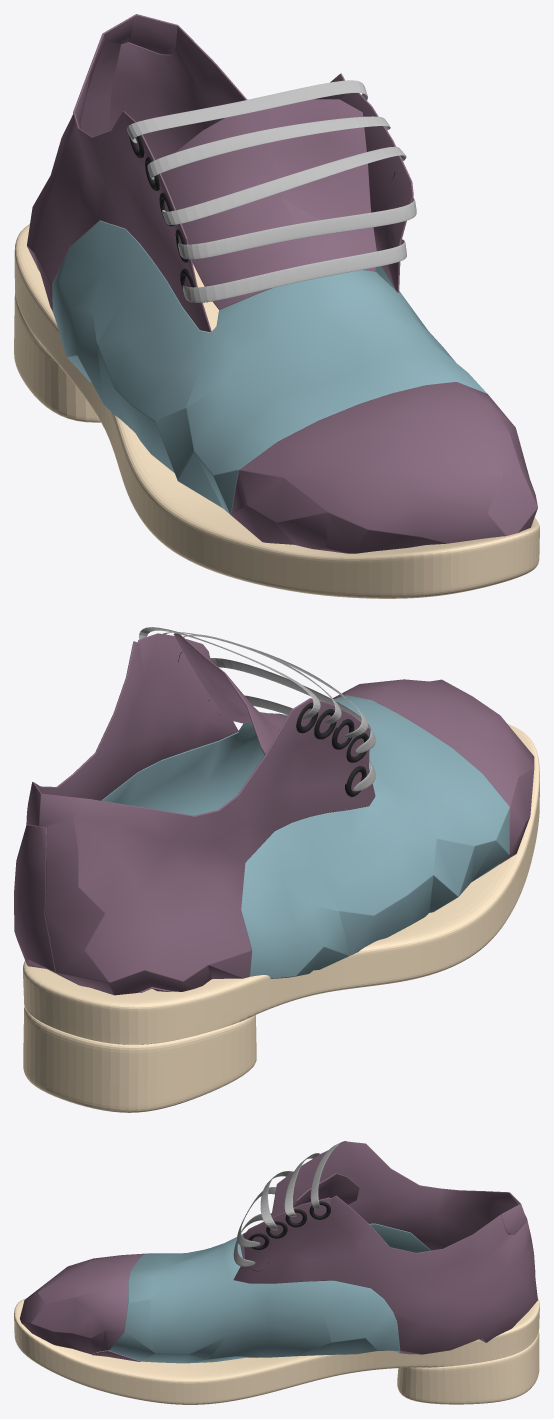
The model's file is za1ve3derecha.fbx.
The picture shows the model from 3 angles, top to bottom: view 1: azimuth 30°, elevation 25°; view 2: azimuth 150°, elevation 25°; view 3: azimuth 270°, elevation 25°; orthographic projection. The views are drawn at different scales.
Visible parts, largest first — view 1: ZAPATO1_3, Plane, Plane.002, Plane.005, Plane.001, Plane.004, Plane.003; view 2: ZAPATO1_3, Plane, Plane.002, Plane.004, Plane.005, Plane.001; view 3: ZAPATO1_3, Plane, Plane.001, Plane.004, Plane.003, Plane.002, Plane.005.
Part boxes in pixels (x1,y1,x2,y2): ZAPATO1_3: [27, 14, 537, 553]; Plane: [14, 224, 539, 598]; Plane.002: [178, 197, 416, 259]; Plane.005: [182, 239, 406, 302]; Plane.001: [162, 146, 406, 224]; Plane.004: [127, 80, 367, 143]; Plane.003: [147, 116, 390, 179]; ZAPATO1_3: [14, 633, 534, 995]; Plane: [23, 724, 539, 1112]; Plane.002: [210, 658, 375, 753]; Plane.004: [139, 627, 320, 720]; Plane.005: [244, 695, 375, 791]; Plane.001: [183, 634, 367, 737]; ZAPATO1_3: [19, 1141, 537, 1363]; Plane: [14, 1298, 539, 1404]; Plane.001: [260, 1171, 293, 1230]; Plane.004: [310, 1141, 347, 1209]; Plane.003: [284, 1153, 320, 1216]; Plane.002: [237, 1187, 276, 1247]; Plane.005: [233, 1213, 271, 1266].
Bounding box in the file's own units: 174 × 204 × 447.
